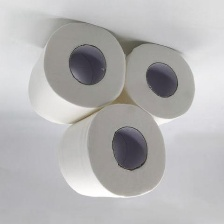tissue: (52, 98, 172, 203), (23, 17, 130, 131), (103, 38, 198, 130)
